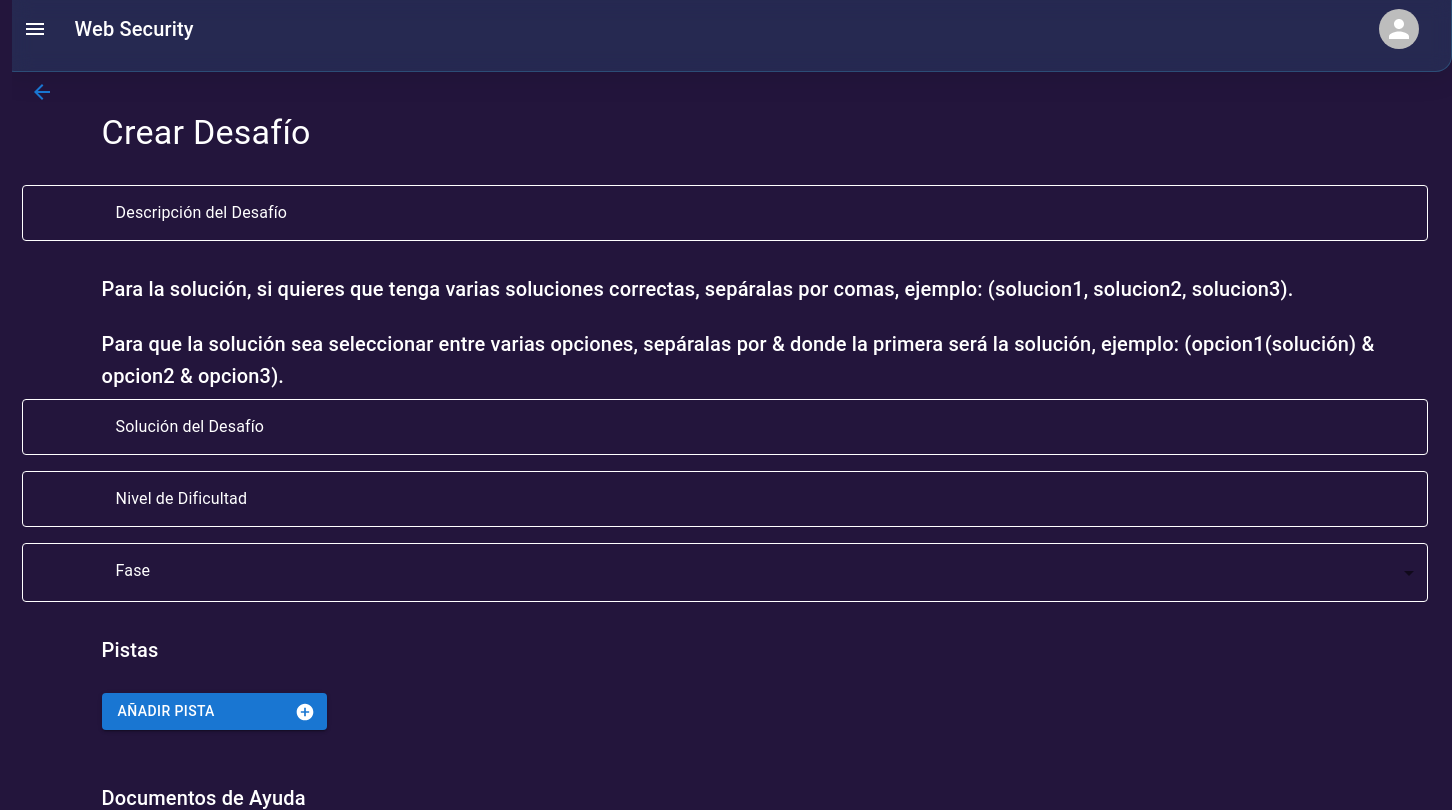
Scenario: CreateChallenge Page › adds and removes pistas
This screenshot has width=1452, height=810.
Click the button "Añadir Pista" at (214, 712), box [102,694,327,730]
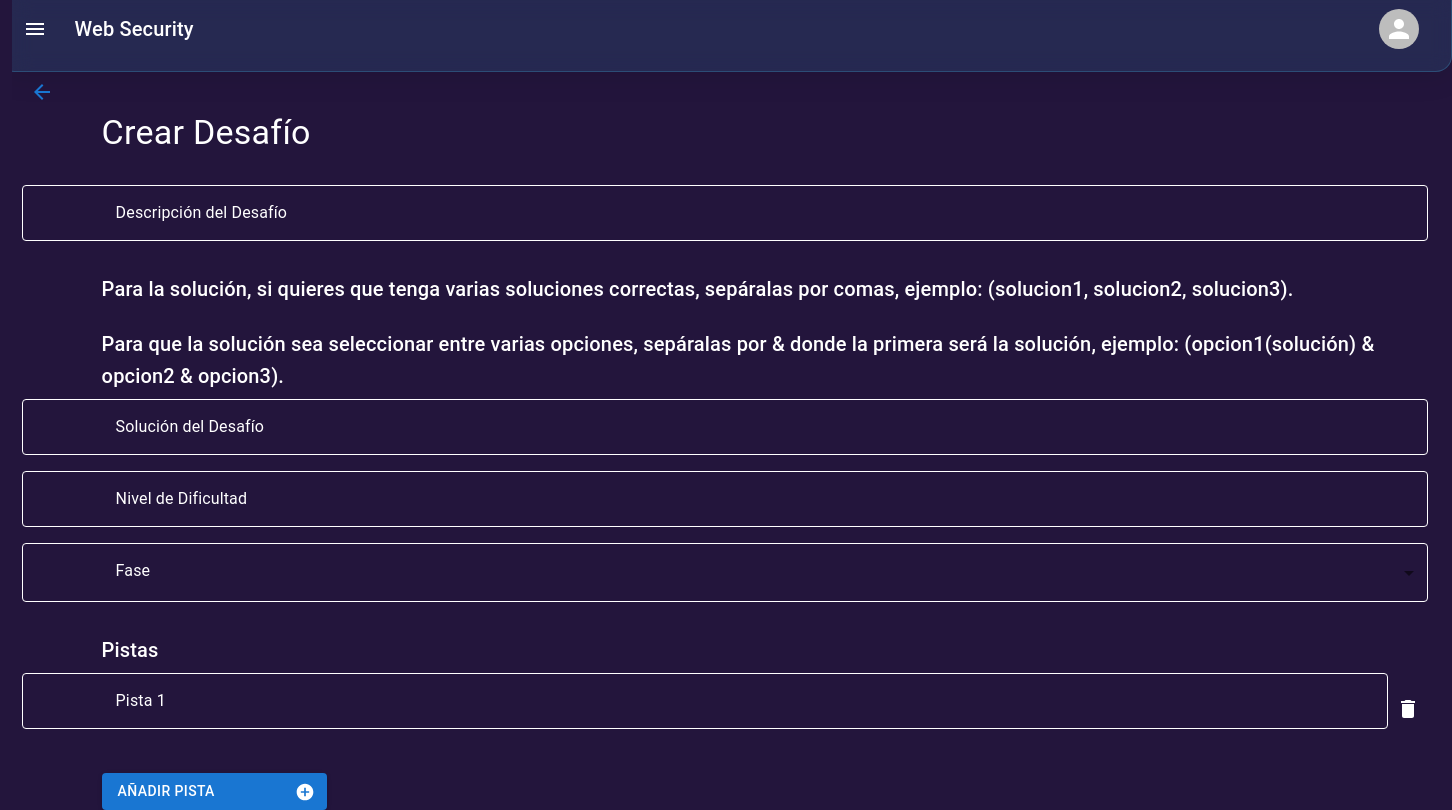
Check: the number of fields labelled "Pista 1" is 1
Type "Nueva pista" into the field labelled "Pista 1" at (745, 702), box [102,674,1388,730]
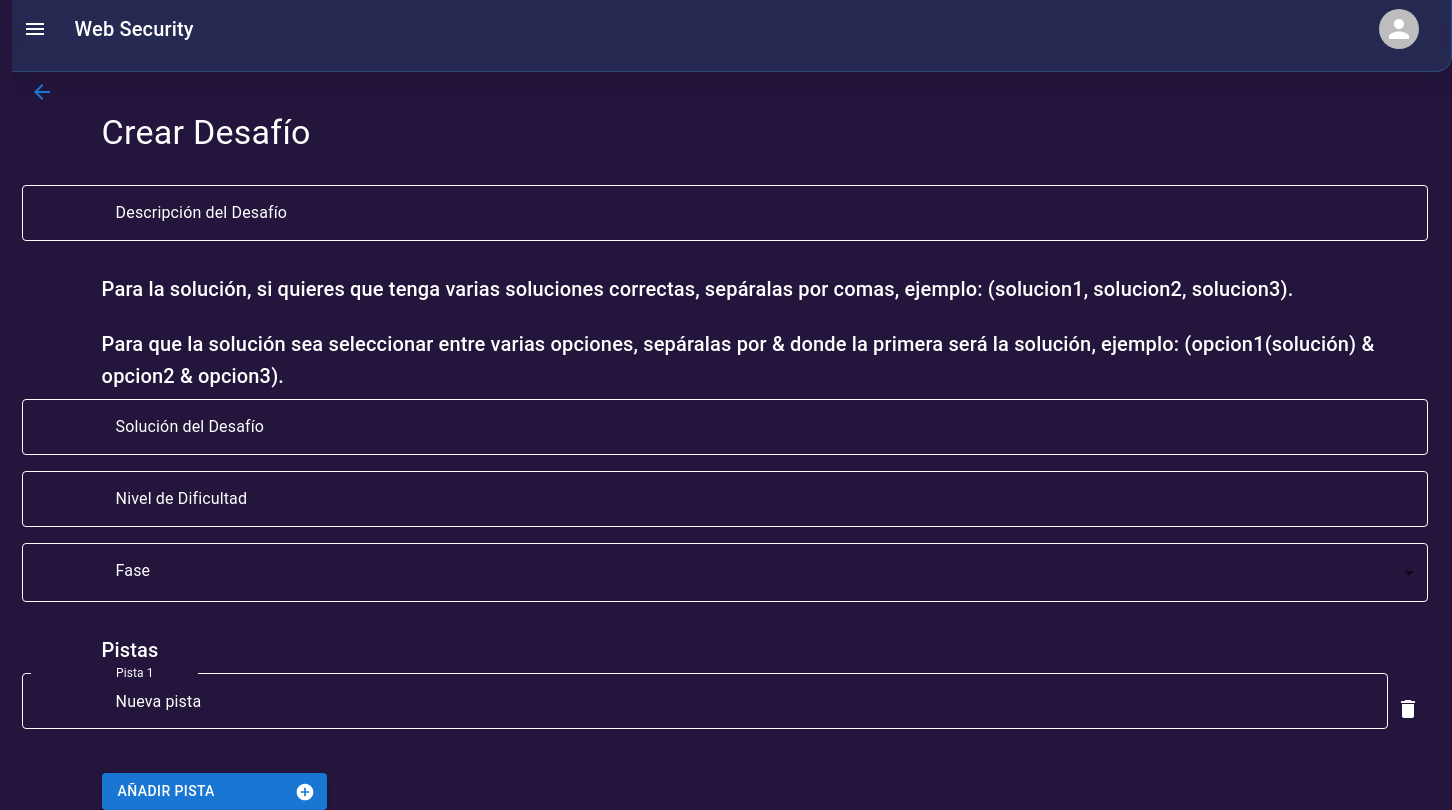
Click the button with test id "DeleteIcon" at (1408, 710), box [1388,690,1428,730]
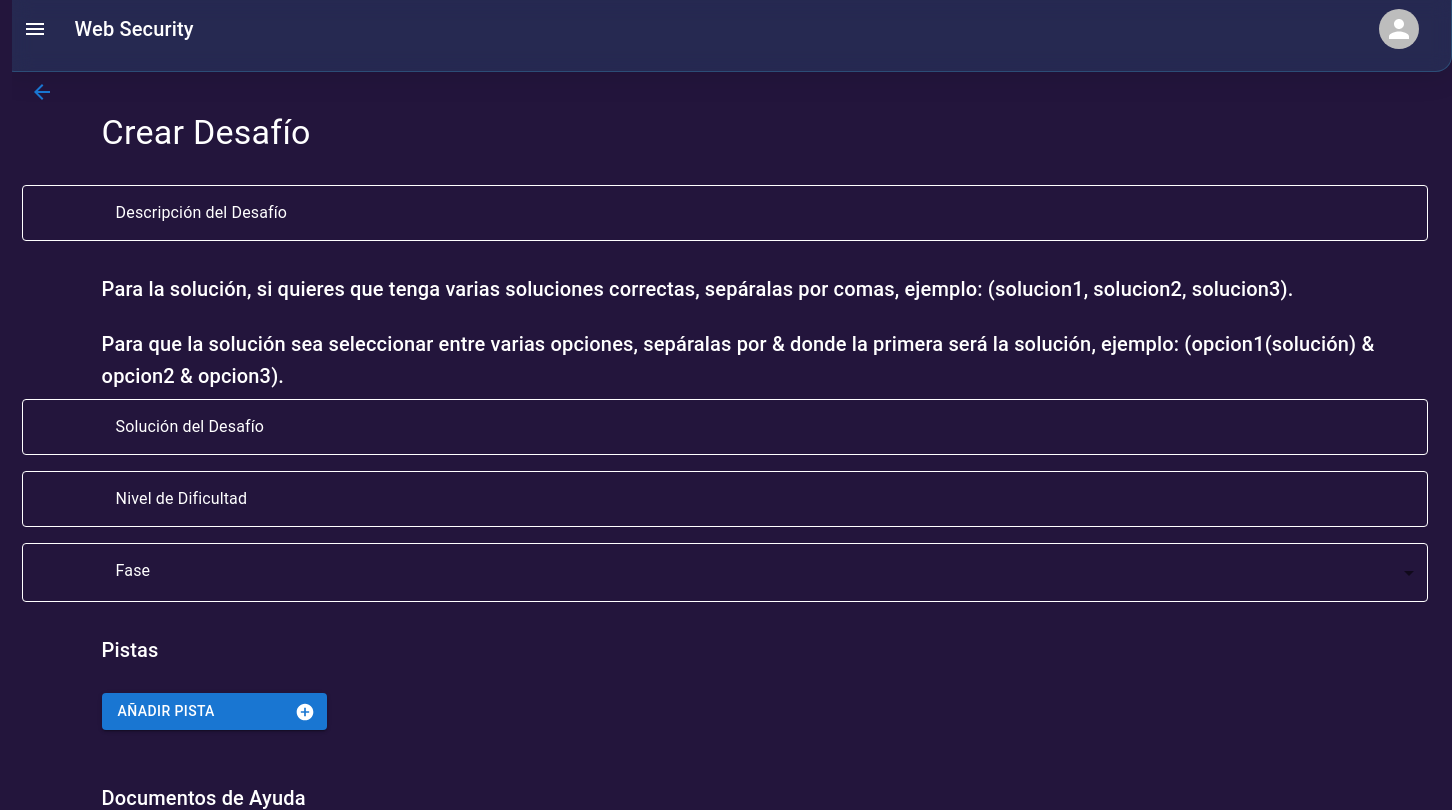
Check: the label labelled "Pista 1" is gone
